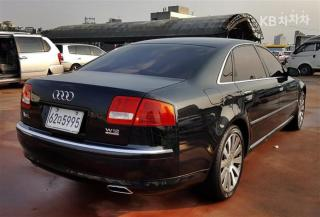2: (53, 113, 58, 123)
5: (62, 114, 67, 126), (75, 117, 80, 129)
6: (49, 112, 53, 124)
9: (66, 116, 71, 127), (71, 116, 75, 127)
plate: (41, 101, 89, 138)
다: (57, 116, 63, 125)
